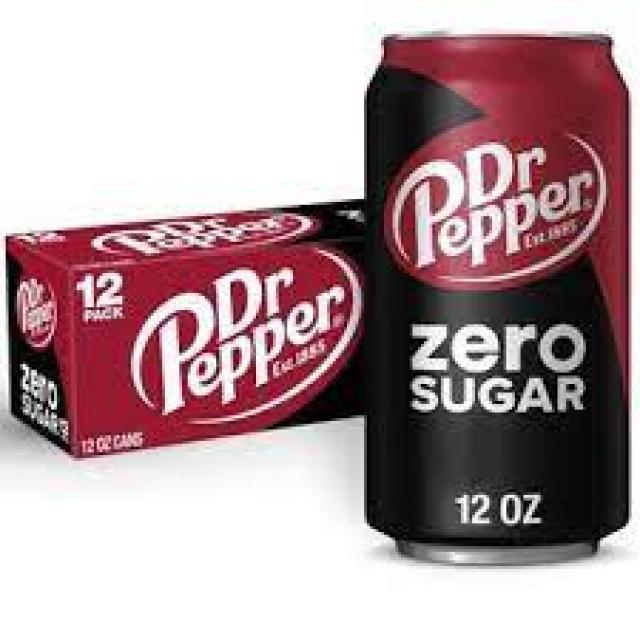Cans: (350, 12, 640, 574)
